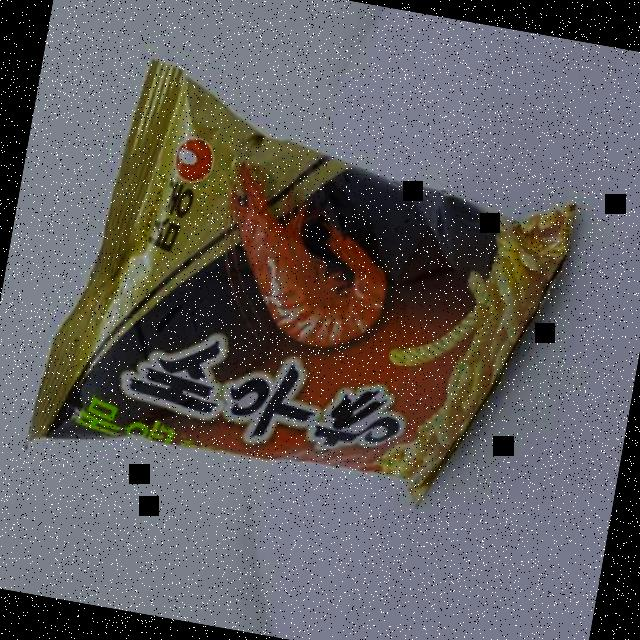snack_bag: (8, 43, 598, 559)
